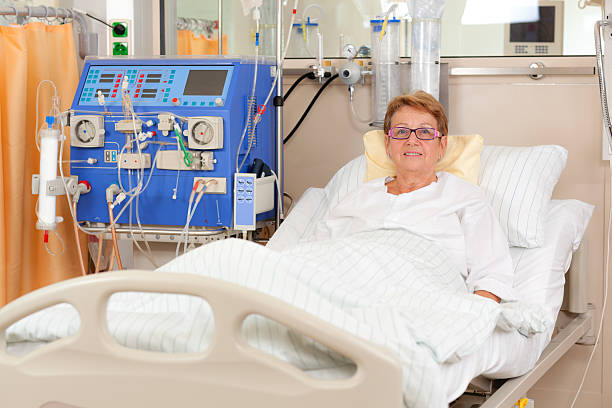bedside_monitor: (502, 8, 556, 48)
curtain: (1, 1, 96, 310)
foot_board: (1, 270, 400, 408)
hospital_bed: (1, 130, 596, 408)
patient: (320, 90, 509, 364)
